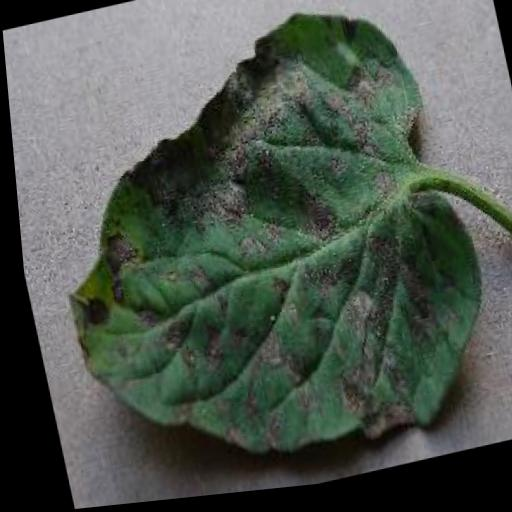Early Blight: (8, 0, 508, 511)
